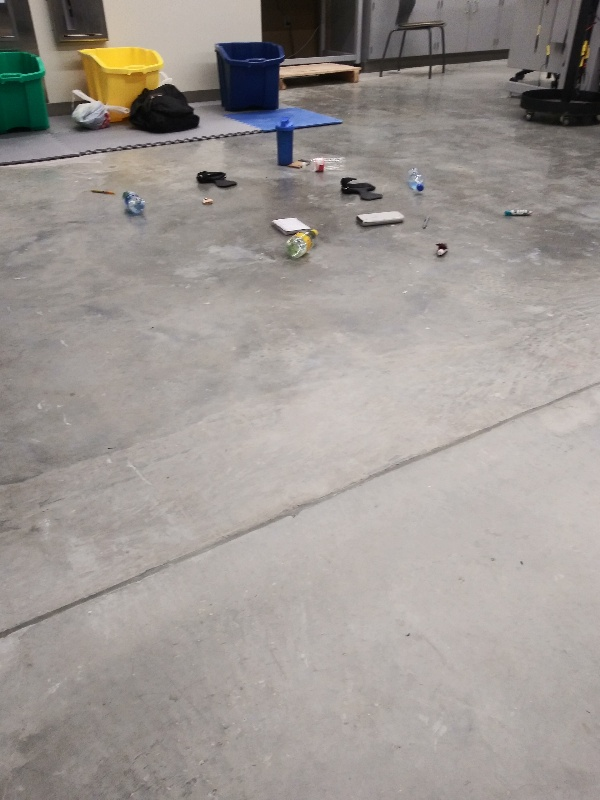bottle: (280, 226, 321, 262), (298, 156, 351, 177), (120, 185, 150, 222), (401, 166, 431, 199)
